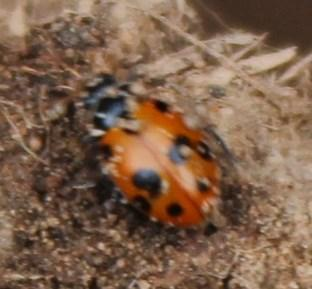ladybug: (81, 72, 230, 238)
